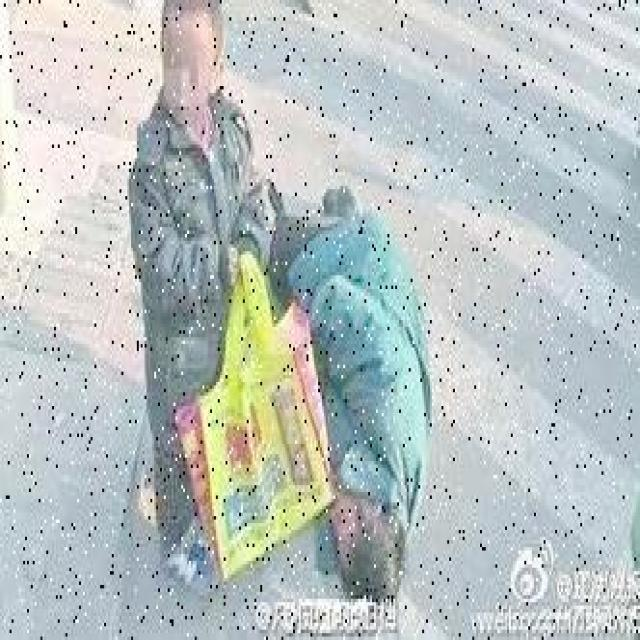fall: (282, 186, 442, 585)
